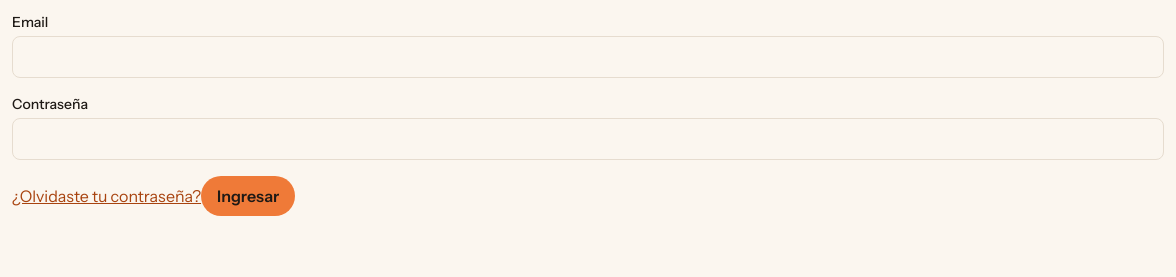
LoginForm › un error inesperado muestra un mensaje genérico
Type "valentina@latinzumi.test" into the field labelled "Email". click: (588, 57)
box: [12,36,1164,78]
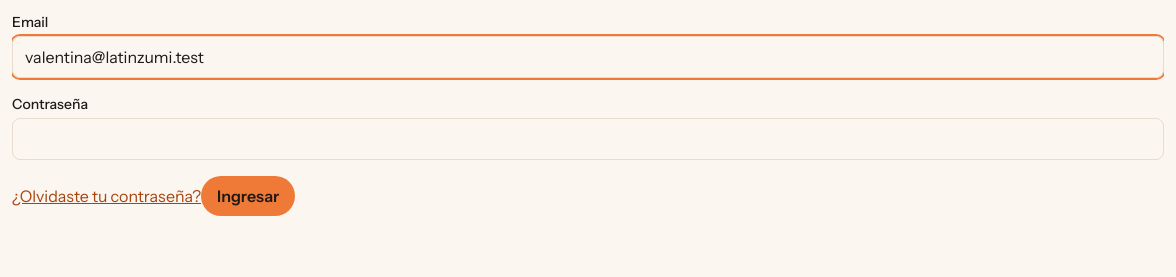
Type "LatinZumi1!" into the password field labelled "Contraseña". click: (588, 139)
box: [12,118,1164,160]
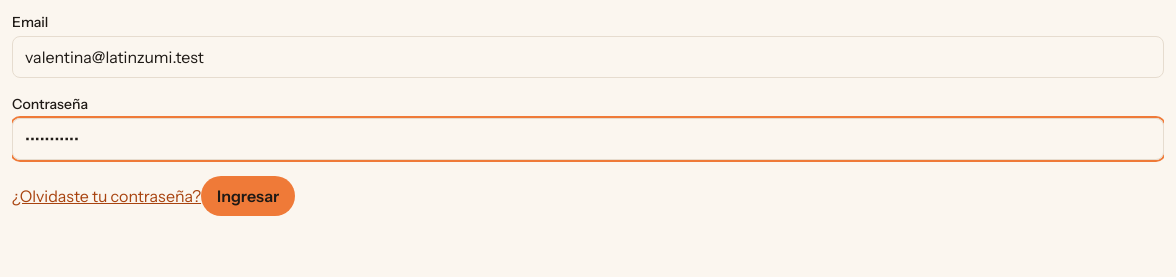
Click the button "Ingresar". click: (248, 196)
box: [201,176,295,216]
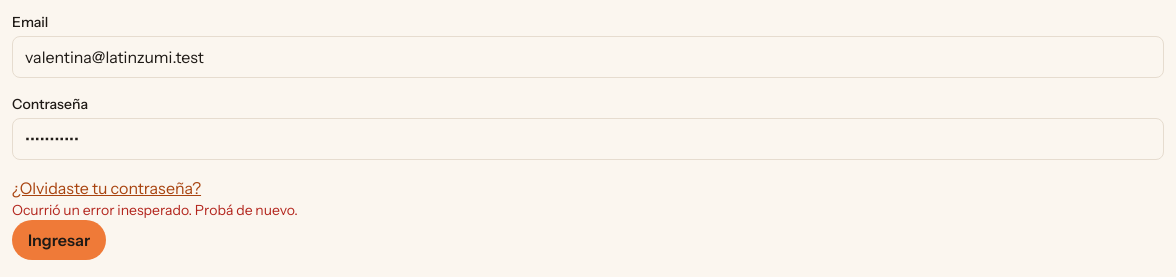
Check: the message reads "Ocurrió un error inesperado. Probá de nuevo.", box [12,201,298,219]
